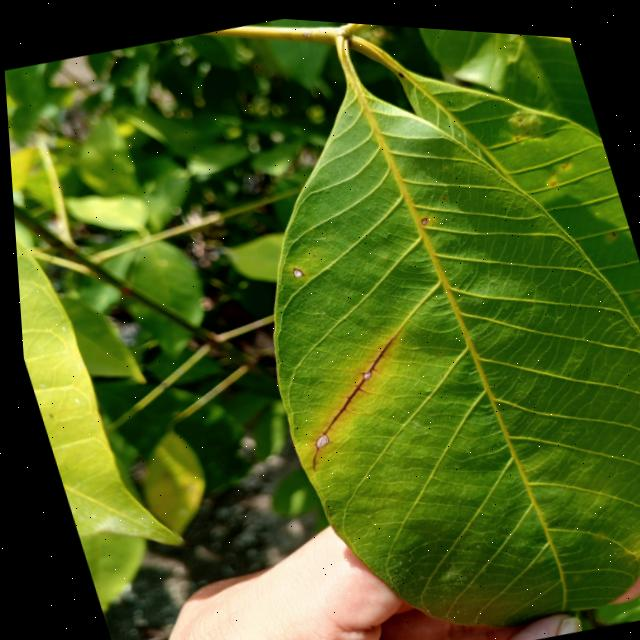Colletotrichum: (288, 263, 301, 274), (417, 211, 425, 219), (440, 190, 444, 193)
Corynespora: (271, 324, 425, 472)
